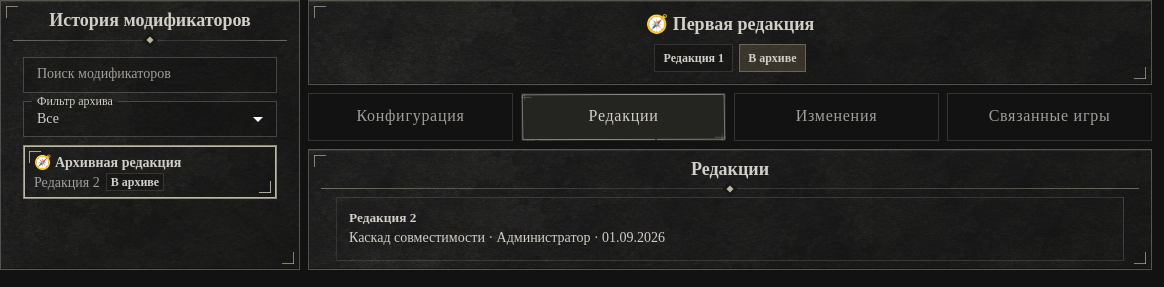
Test: ModifierHistoryPage › does not show the previous revision while the selected revision is loading
The width and height of the screenshot is (1164, 287).
Expected: the heading "🧭 Первая редакция" is shown, [646,14,814,34]
Click the button "Редакция 2 Каскад совместимости · Администратор · 01.09.2026" at (383, 218), box [336,197,1124,261]
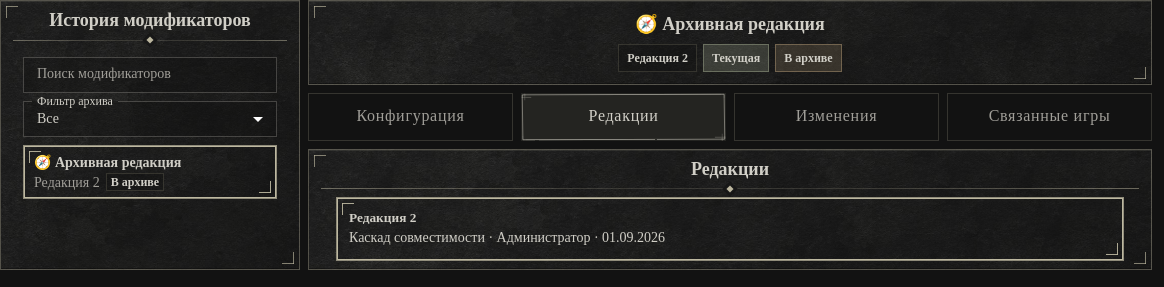
Expected: the heading "🧭 Первая редакция" is gone
Expected: the heading "🧭 Архивная редакция" is shown, [635,14,825,34]
